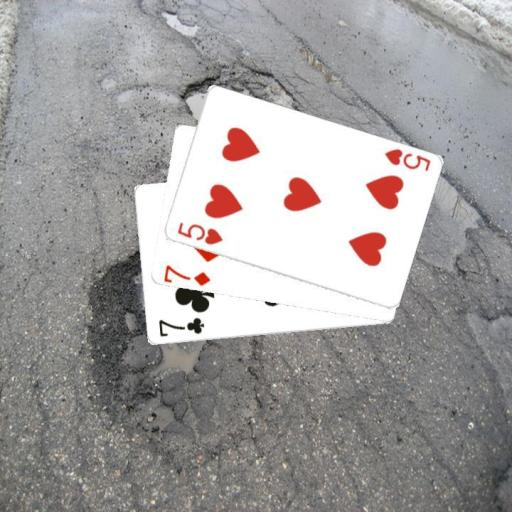5H: (174, 219, 224, 247), (381, 146, 432, 173)
7C: (155, 315, 206, 339)
7D: (161, 262, 212, 287)
